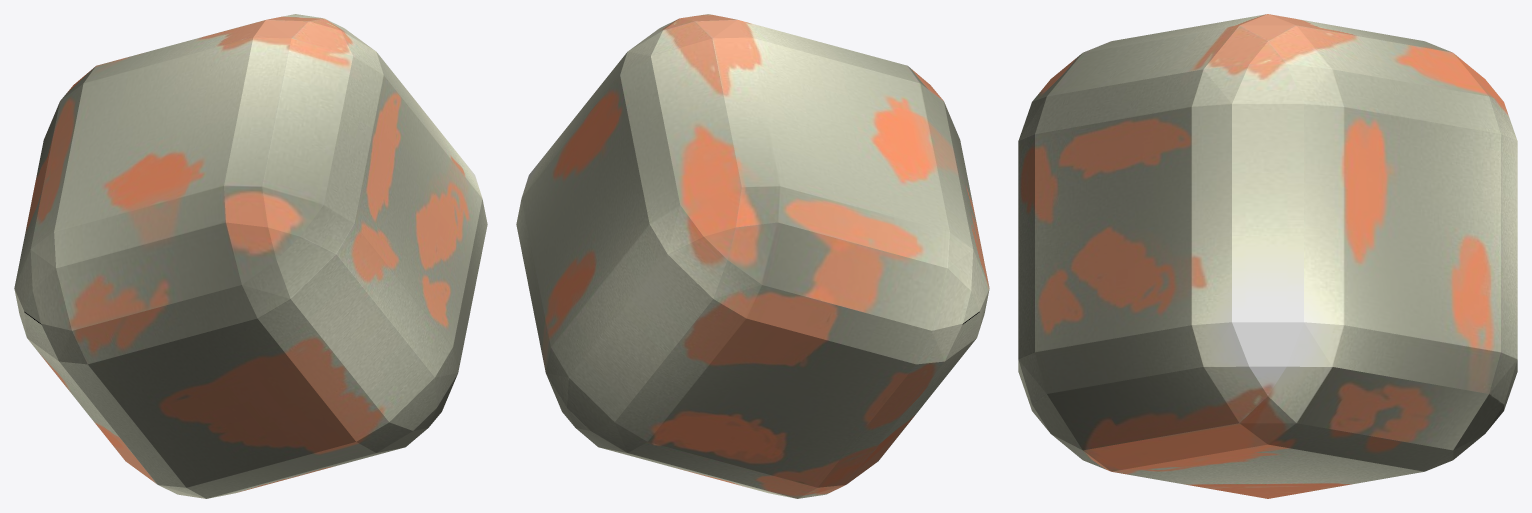
The model's file is residue2.dae.
3 renders of one model, left to right at view 1: azimuth 30°, elevation 25°; view 2: azimuth 150°, elevation 25°; view 3: azimuth 270°, elevation 25°, orthographic. The views are drawn at different scales.
Visible parts, largest first — view 1: Cube; view 2: Cube; view 3: Cube.
Part boxes in pixels (left/top/right/bottom): Cube: left=14, top=14, right=487, bottom=498; Cube: left=516, top=14, right=989, bottom=498; Cube: left=1018, top=14, right=1517, bottom=498.
Bounding box in the file's own units: 3.6 × 3.19 × 3.48.
Materials: 1 (1 with a texture image).
